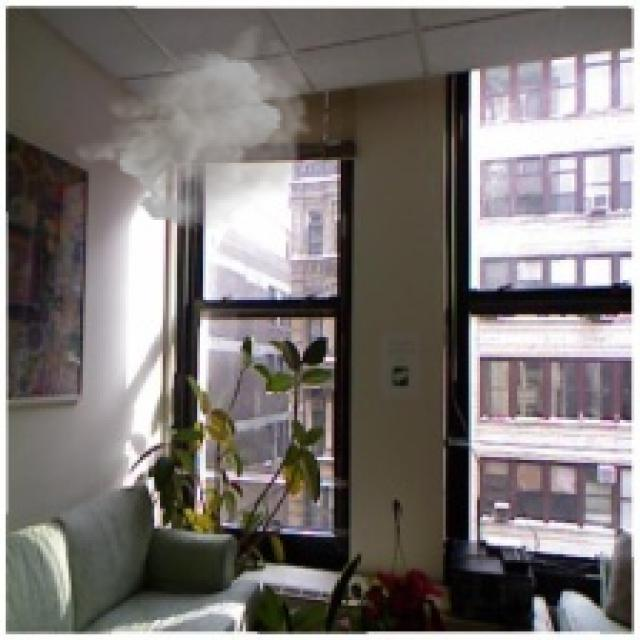smoke: (72, 23, 314, 231)
